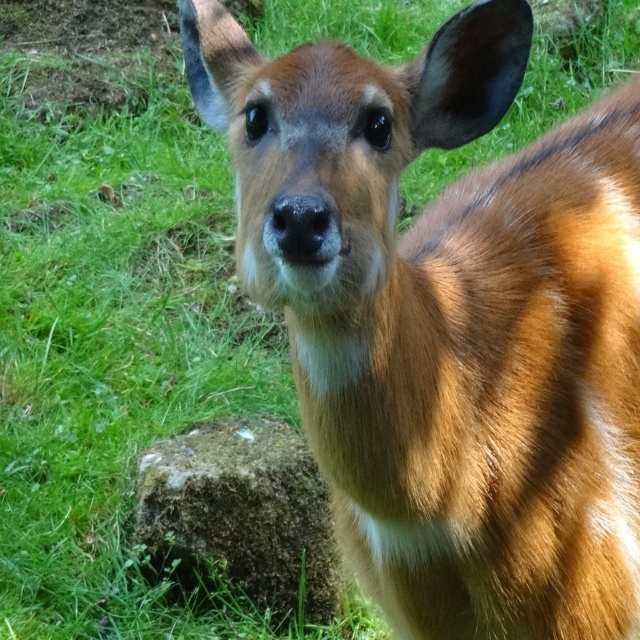Deer: (179, 0, 639, 639)
